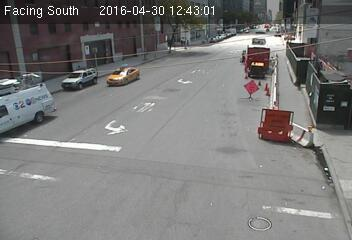neg: (308, 85, 337, 123), (156, 156, 181, 190), (55, 171, 78, 202), (259, 201, 281, 230), (111, 80, 132, 107), (239, 76, 258, 101), (107, 32, 126, 57), (181, 105, 199, 129), (48, 102, 66, 124), (49, 44, 65, 66), (16, 162, 32, 183), (232, 136, 248, 156), (115, 145, 130, 166), (205, 34, 219, 52)
